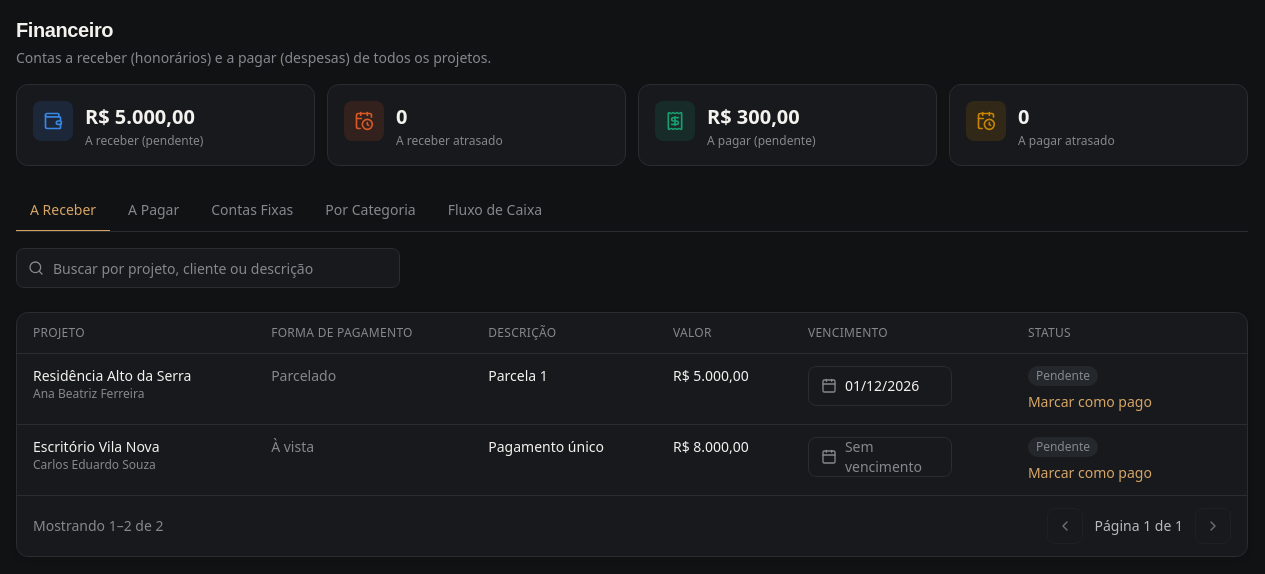
Scenario: FinancialPage › switches to the payables tab, showing both project and company expenses
expect the text "Parcela 1" is shown: met, box [488,366,548,386]
Click the button "A Pagar".
click(154, 211)  # box [114,190,193,232]
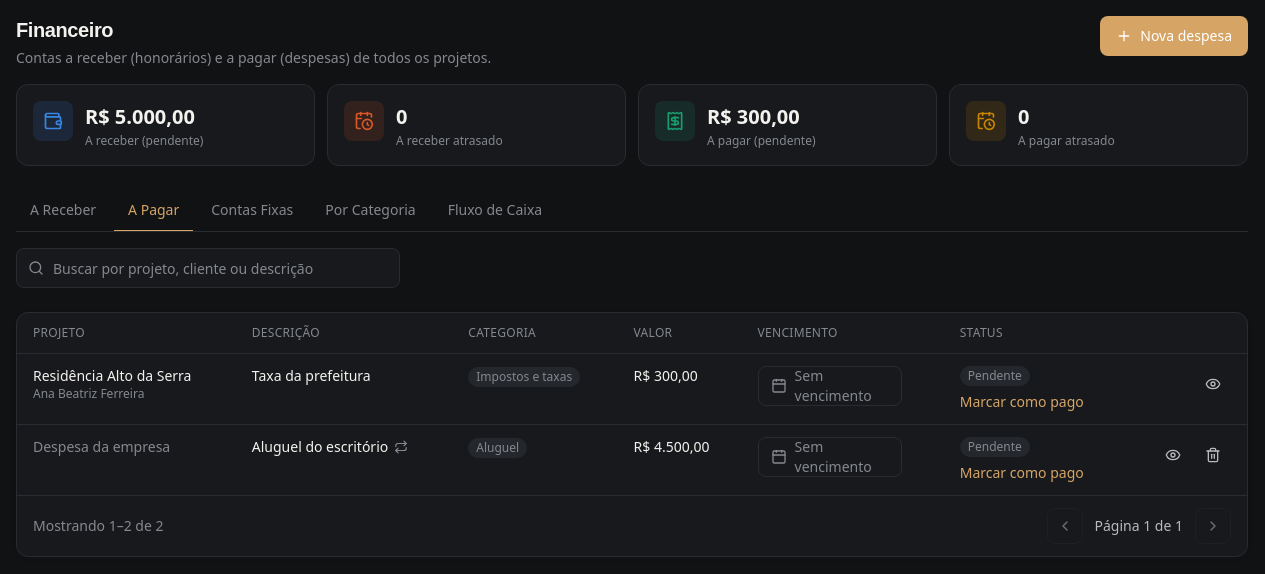
expect the text "Taxa da prefeitura" is shown: met, box [252,366,371,386]
expect the text "Aluguel do escritório" is shown: met, box [252,437,388,457]
expect the text "Despesa da empresa" is shown: met, box [33,437,170,456]
